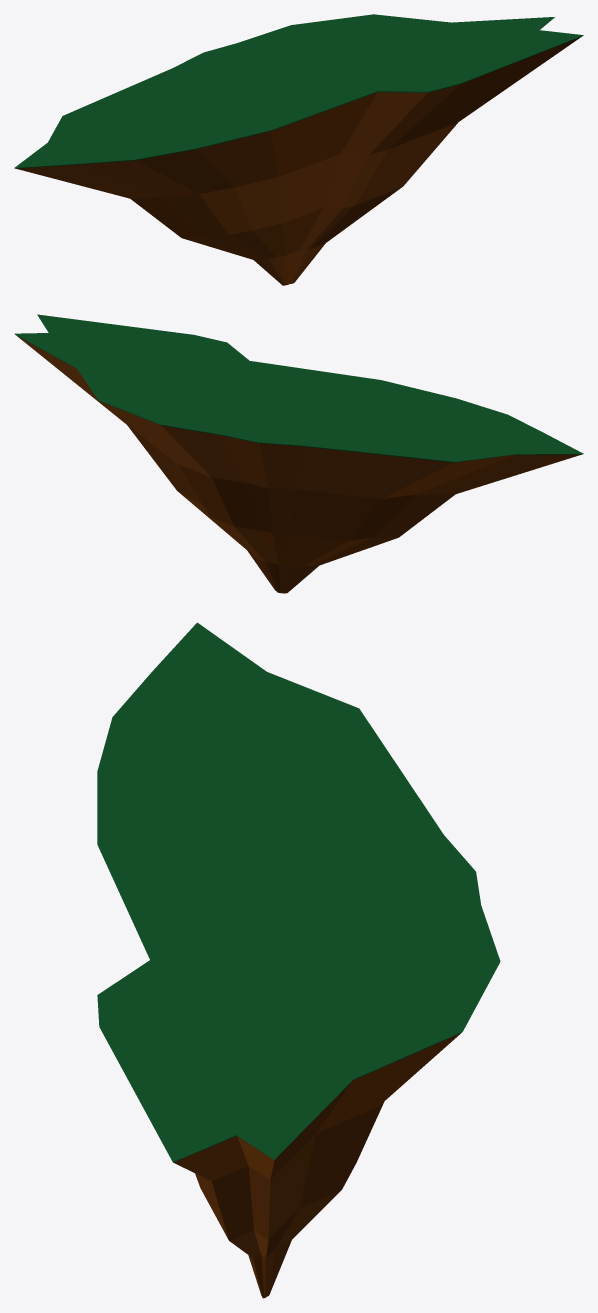
The model's file is island 2.glb.
3 views of the same model, one above another, from view 1: azimuth 30°, elevation 25°; view 2: azimuth 150°, elevation 25°; view 3: azimuth 270°, elevation 25° (orthographic). The views are drawn at different scales.
Parts seen in each view (by area): view 1: Vert, Vert.001; view 2: Vert.001, Vert; view 3: Vert.001, Vert.
Boxes of the visible parts, bbox=[...] form: Vert: bbox=[16, 29, 580, 285]; Vert.001: bbox=[14, 14, 583, 168]; Vert.001: bbox=[14, 314, 583, 462]; Vert: bbox=[17, 336, 580, 593]; Vert.001: bbox=[97, 622, 500, 1162]; Vert: bbox=[174, 1033, 460, 1298].
Size of the model in its own units: 11.15 by 3.77 by 3.52.
